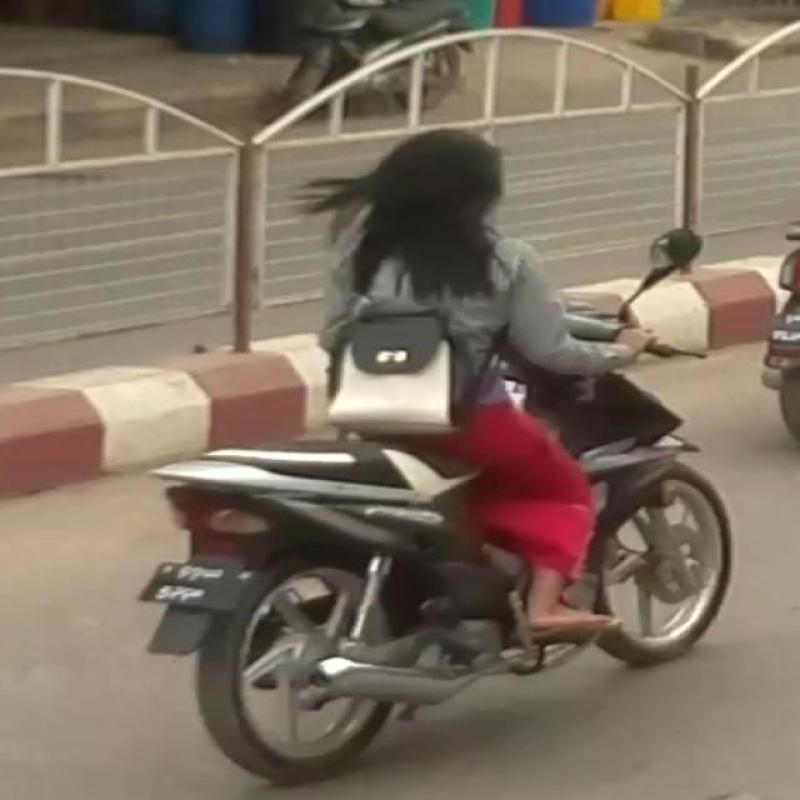nohelmet: (350, 119, 531, 279)
